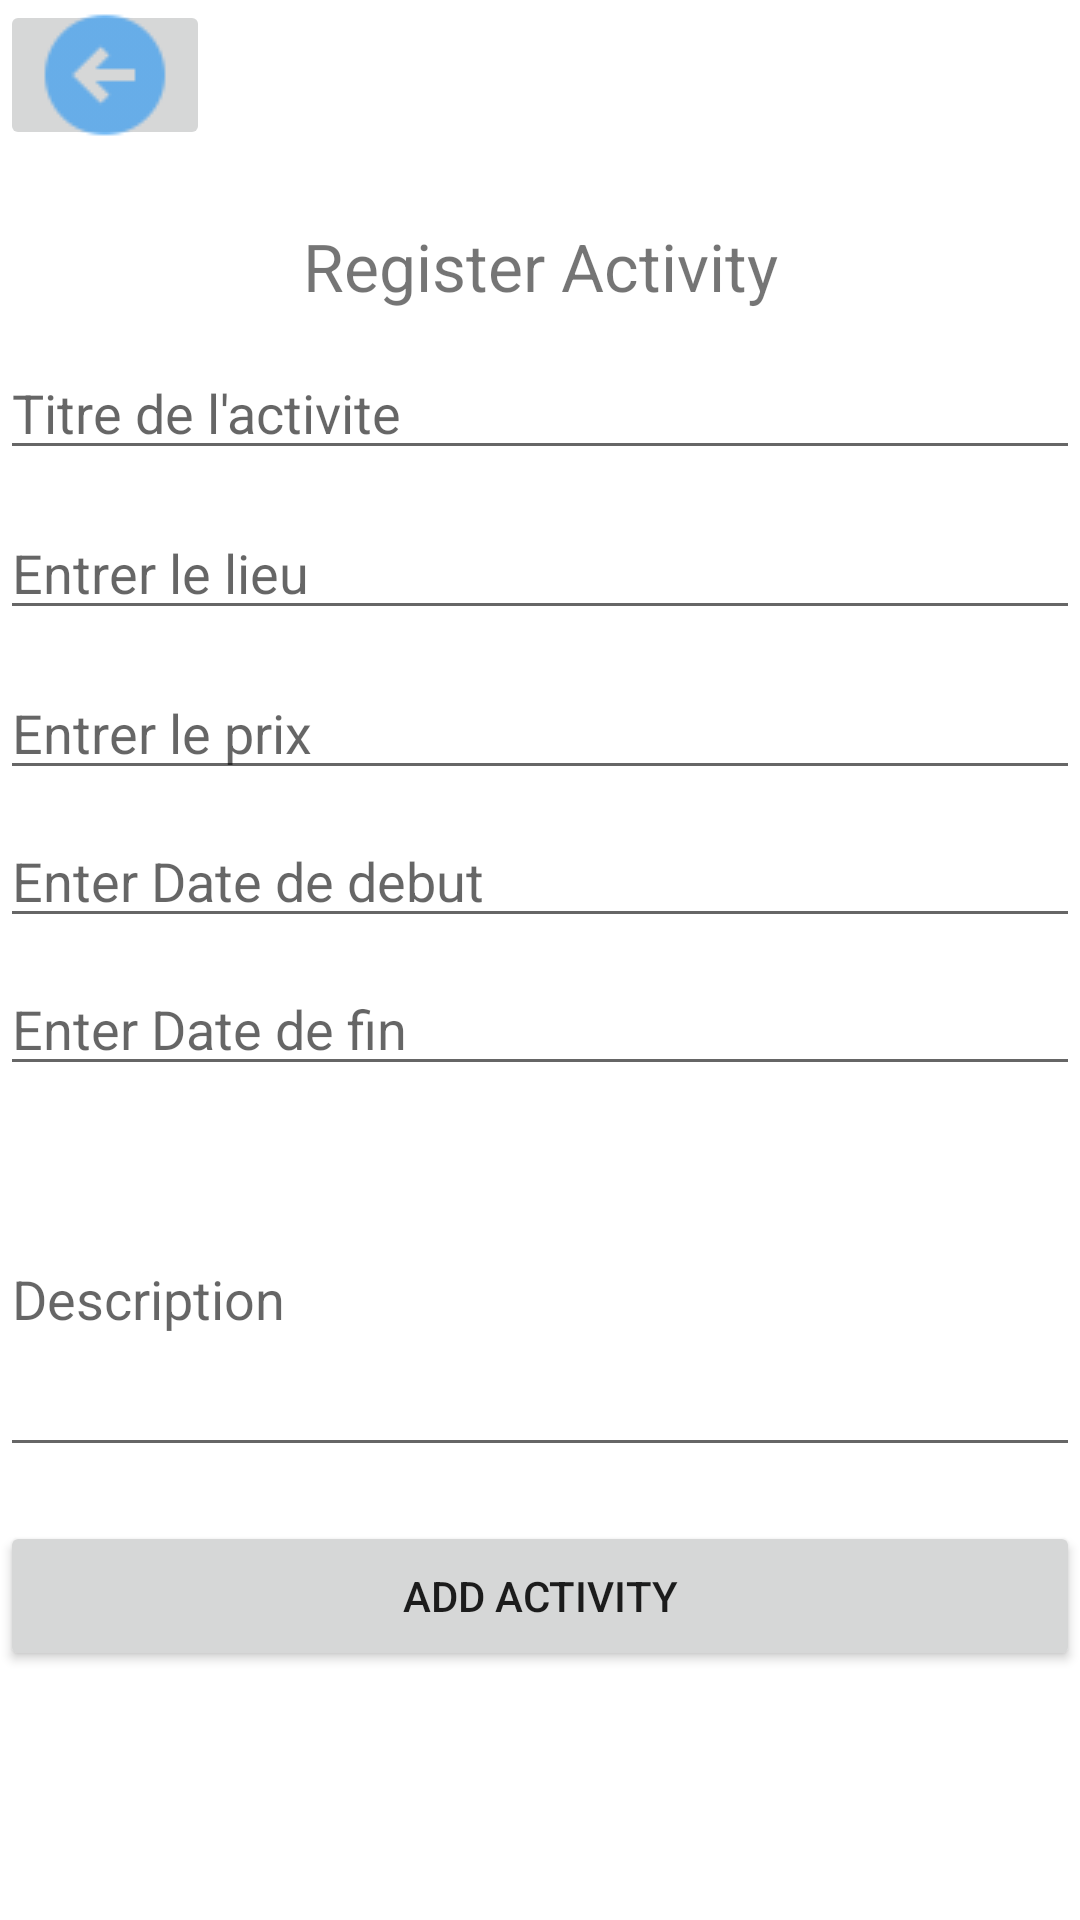

Named icons in this screenshot (1080w x 1920h) and their centers, point (x, y):
back: point (105, 75)
